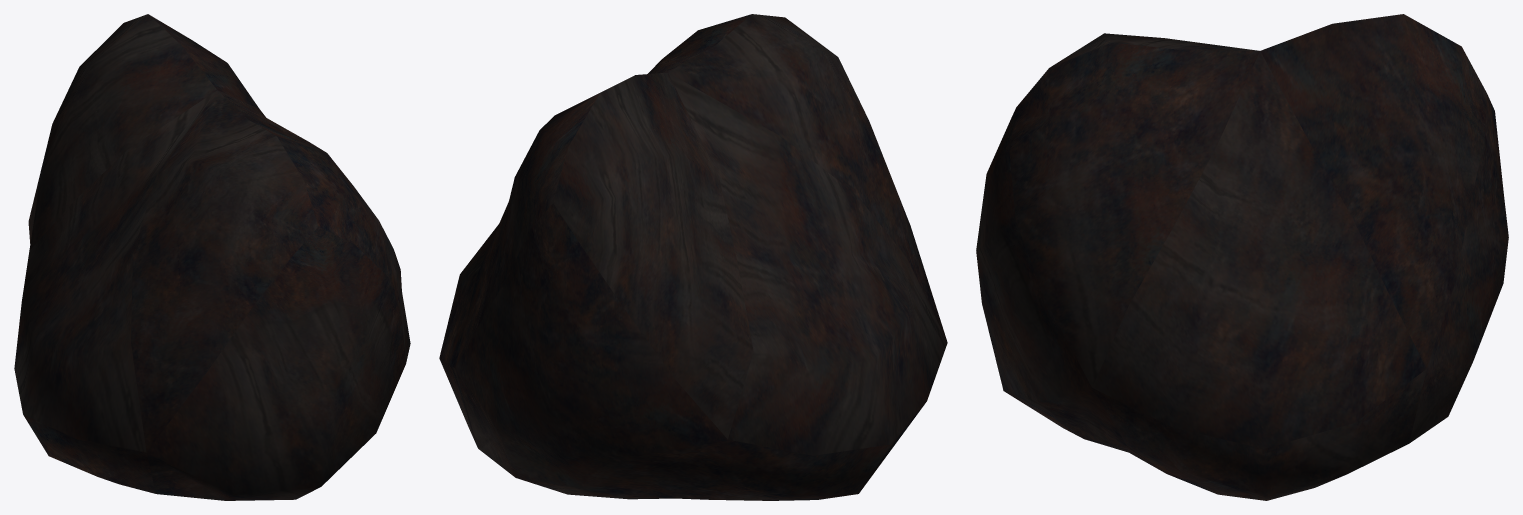
Rendered from rock4.fbx.
3 views of the same model, side by side, from view 1: azimuth 30°, elevation 25°; view 2: azimuth 150°, elevation 25°; view 3: azimuth 270°, elevation 25° (orthographic). The views are drawn at different scales.
Visible parts, largest first — view 1: rock4; view 2: rock4; view 3: rock4.
Part boxes in pixels (x1=…): rock4: x1=14, y1=14, x2=410, y2=500; rock4: x1=439, y1=14, x2=947, y2=500; rock4: x1=976, y1=14, x2=1508, y2=500.
Bounding box in the file's own units: 95.72 × 96.82 × 105.
